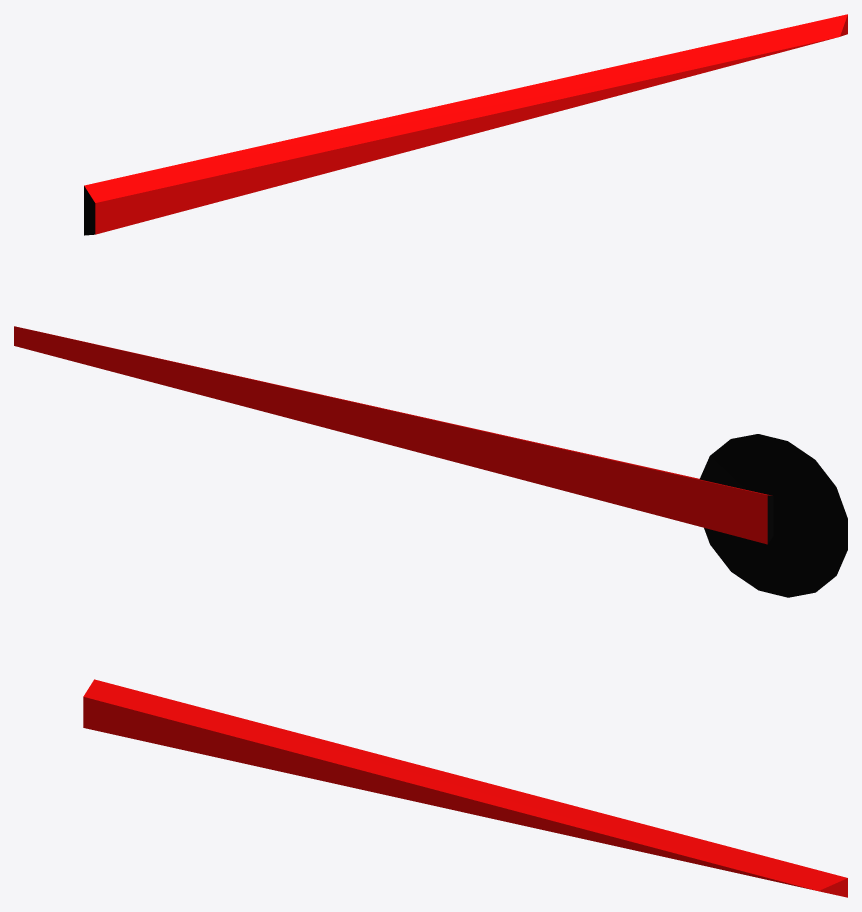
The model's file is needle.glb.
3 views of the same model, one above another, from view 1: azimuth 30°, elevation 25°; view 2: azimuth 150°, elevation 25°; view 3: azimuth 330°, elevation 25° (orthographic).
Visible parts, largest first — view 1: box_000; view 2: box_000, box_002; view 3: box_000.
Part boxes in pixels (left/top/right/bottom): box_000: left=84, top=14, right=847, bottom=234; box_000: left=14, top=326, right=771, bottom=544; box_002: left=699, top=434, right=847, bottom=597; box_000: left=83, top=679, right=847, bottom=897.
Size of the model in its own units: 1.1 by 0.1986 by 0.0254.
